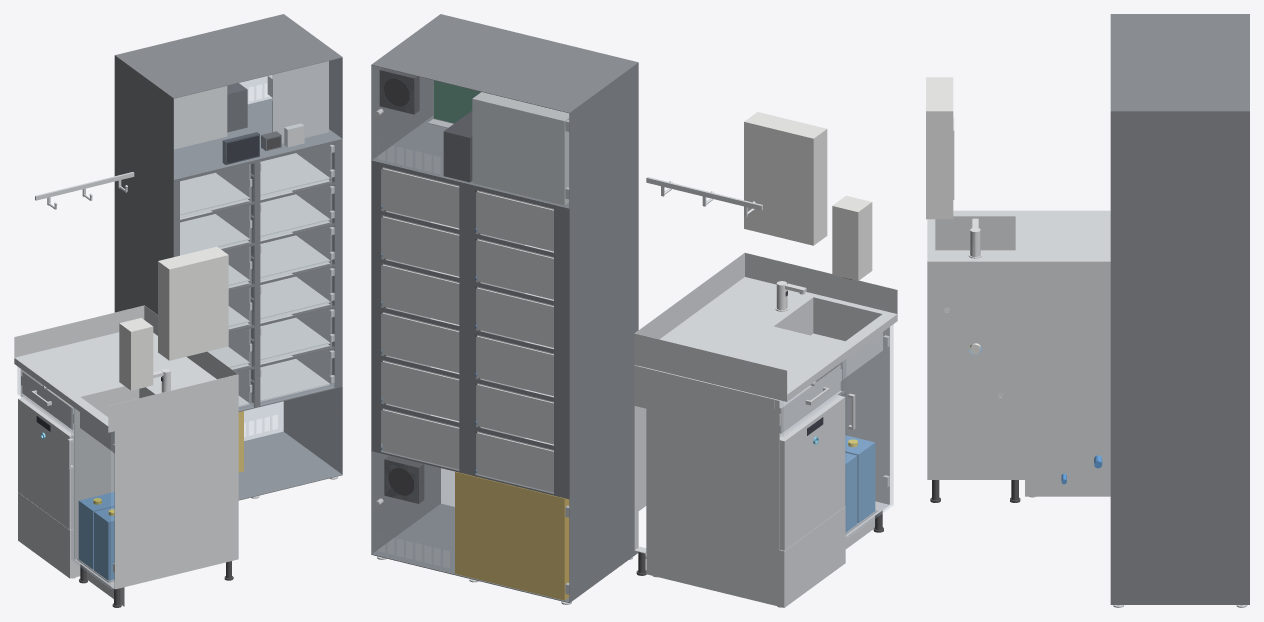
File: modul_S.glb
3 views of the same model, side by side, from view 1: azimuth 30°, elevation 25°; view 2: azimuth 150°, elevation 25°; view 3: azimuth 270°, elevation 25° (orthographic). The views are drawn at different scales.
Parts seen in each view (by area): view 1: QR_GOVDE__qr_govde, TEZGAH_GOVDE__paslanmaz, QR_GOVDE__on_seffaf, QR_GOZLER__aluminyum, TEZGAH_HIJYEN__beyaz_abs, QR_GOZLER__paslanmaz, TEZGAH_BULASIK__paslanmaz, TEZGAH_GOVDE__on_seffaf, QR_KILIT_KARTI__celik, QR_GOZLER__on_seffaf__GOZ_51_KAPI, QR_GOZLER__on_seffaf__GOZ_31_KAPI, QR_GOZLER__on_seffaf__GOZ_01_KAPI (+19 smaller); view 2: QR_GOVDE__qr_govde, QR_GOVDE__on_seffaf, TEZGAH_GOVDE__paslanmaz, TEZGAH_BULASIK__paslanmaz, TEZGAH_HIJYEN__beyaz_abs, QR_ROBOT_KONTROL__robot_kutu, QR_ANA_PANO__pano, TEZGAH_GOVDE__on_seffaf, TEZGAH_EVYE__paslanmaz, QR_GOZLER__kapak_pc__GOZ_01_KAPAK, QR_GOZLER__kapak_pc__GOZ_51_KAPAK, QR_GOZLER__kapak_pc__GOZ_21_KAPAK (+17 smaller); view 3: QR_GOVDE__qr_govde, TEZGAH_GOVDE__paslanmaz, TEZGAH_HIJYEN__beyaz_abs, TEZGAH_BULASIK__paslanmaz, TEZGAH_EVYE__paslanmaz, TEZGAH_EVYE__krom.
Boxes of the visible parts, x1=… form: QR_GOVDE__qr_govde: x1=114, y1=14, x2=342, y2=500; TEZGAH_GOVDE__paslanmaz: x1=14, y1=305, x2=238, y2=606; QR_GOVDE__on_seffaf: x1=174, y1=58, x2=342, y2=499; QR_GOZLER__aluminyum: x1=180, y1=153, x2=329, y2=406; TEZGAH_HIJYEN__beyaz_abs: x1=119, y1=246, x2=228, y2=390; QR_GOZLER__paslanmaz: x1=180, y1=145, x2=330, y2=406; TEZGAH_BULASIK__paslanmaz: x1=18, y1=397, x2=80, y2=578; TEZGAH_GOVDE__on_seffaf: x1=71, y1=406, x2=114, y2=588; QR_KILIT_KARTI__celik: x1=272, y1=61, x2=328, y2=143; QR_GOZLER__on_seffaf__GOZ_51_KAPI: x1=260, y1=144, x2=334, y2=199; QR_GOZLER__on_seffaf__GOZ_31_KAPI: x1=260, y1=226, x2=334, y2=281; QR_GOZLER__on_seffaf__GOZ_01_KAPI: x1=260, y1=350, x2=334, y2=405; QR_GOVDE__qr_govde: x1=371, y1=14, x2=638, y2=602; QR_GOVDE__on_seffaf: x1=372, y1=65, x2=568, y2=601; TEZGAH_GOVDE__paslanmaz: x1=634, y1=252, x2=897, y2=553; TEZGAH_BULASIK__paslanmaz: x1=646, y1=395, x2=845, y2=607; TEZGAH_HIJYEN__beyaz_abs: x1=744, y1=112, x2=872, y2=280; QR_ROBOT_KONTROL__robot_kutu: x1=455, y1=471, x2=569, y2=600; QR_ANA_PANO__pano: x1=472, y1=92, x2=569, y2=205; TEZGAH_GOVDE__on_seffaf: x1=843, y1=325, x2=893, y2=539; TEZGAH_EVYE__paslanmaz: x1=773, y1=297, x2=882, y2=379; QR_GOZLER__kapak_pc__GOZ_01_KAPAK: x1=382, y1=409, x2=459, y2=469; QR_GOZLER__kapak_pc__GOZ_51_KAPAK: x1=382, y1=168, x2=459, y2=228; QR_GOZLER__kapak_pc__GOZ_21_KAPAK: x1=382, y1=313, x2=459, y2=372; QR_GOVDE__qr_govde: x1=1110, y1=14, x2=1249, y2=604; TEZGAH_GOVDE__paslanmaz: x1=927, y1=210, x2=1110, y2=479; TEZGAH_HIJYEN__beyaz_abs: x1=926, y1=77, x2=954, y2=219; TEZGAH_BULASIK__paslanmaz: x1=1025, y1=443, x2=1110, y2=496; TEZGAH_EVYE__paslanmaz: x1=935, y1=216, x2=1015, y2=250; TEZGAH_EVYE__krom: x1=968, y1=218, x2=1003, y2=397.
Size of the model in its own units: 1.6 by 2.05 by 1.21.
